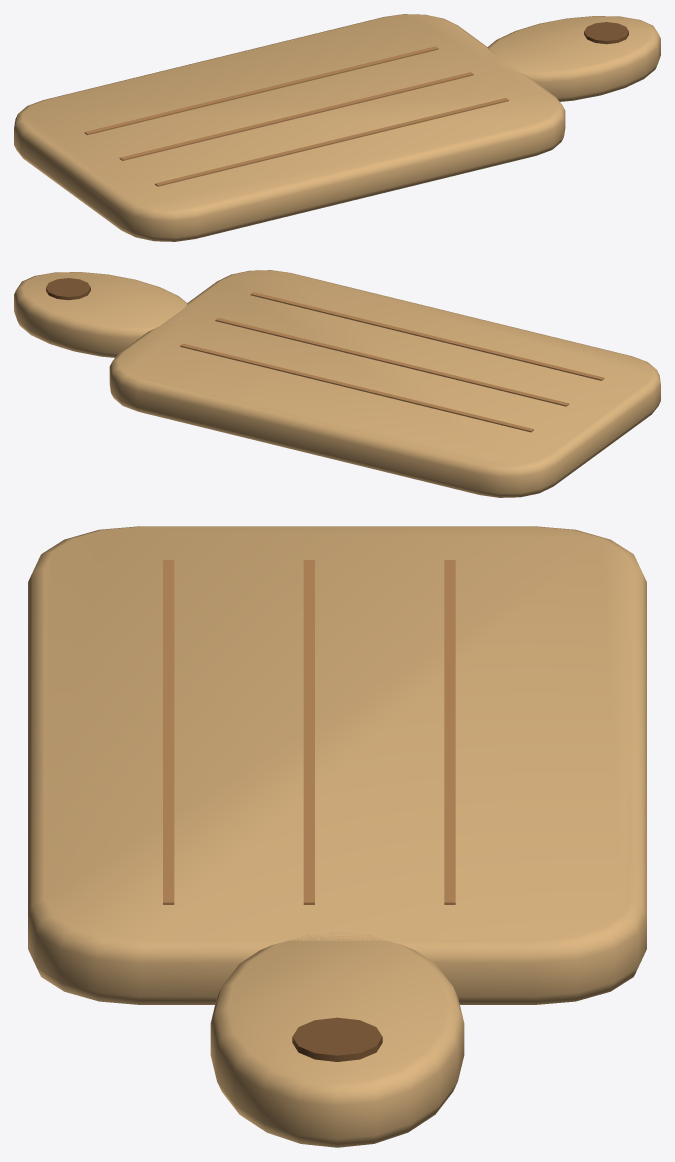
Rendered from tabua-de-corte.glb.
3 renders of one model, top to bottom at view 1: azimuth 30°, elevation 25°; view 2: azimuth 150°, elevation 25°; view 3: azimuth 270°, elevation 25°, orthographic. The views are drawn at different scales.
Parts seen in each view (by area): view 1: tabua-de-corte; view 2: tabua-de-corte; view 3: tabua-de-corte.
Boxes of the visible parts, x1,y1,x2,y2 form: tabua-de-corte: (14,14,660,241); tabua-de-corte: (14,270,660,497); tabua-de-corte: (28,526,646,1147).
Bounding box in the file's own units: 0.48 × 0.03 × 0.22.
